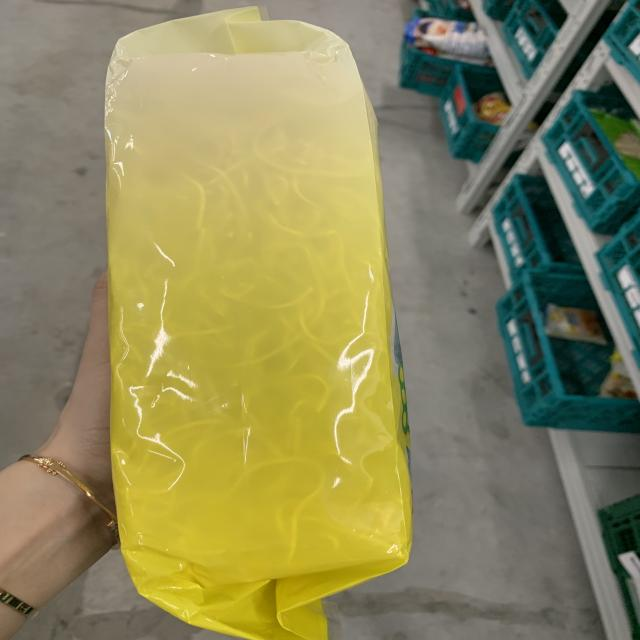object_name: (112, 37, 404, 602)
